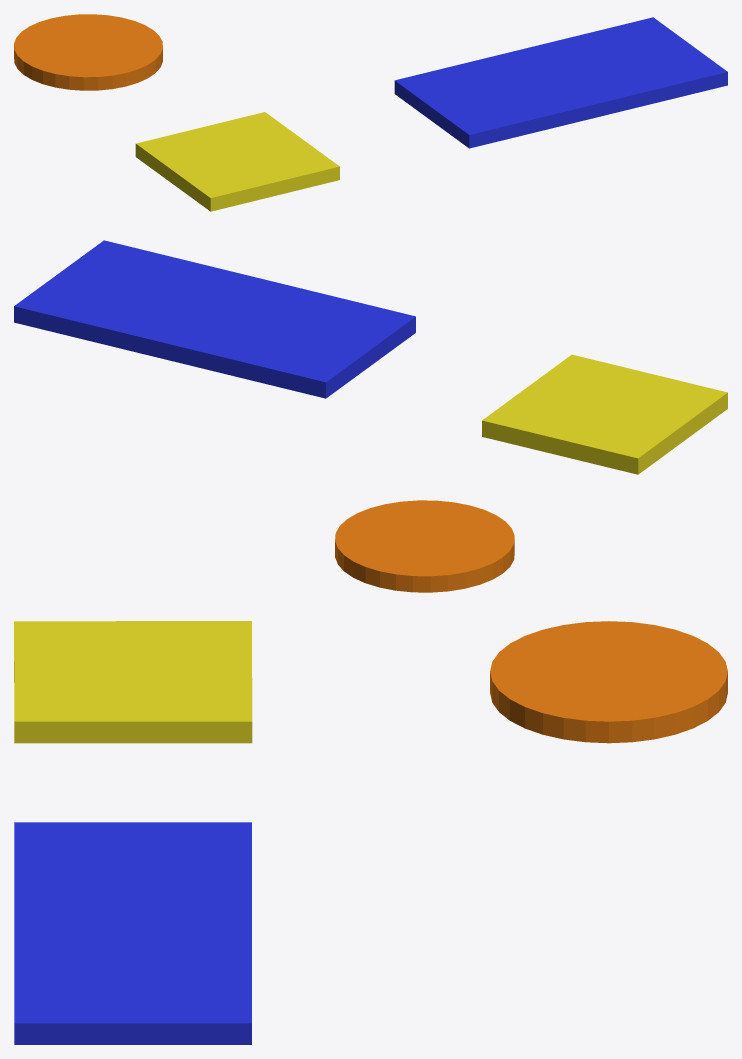
Rendered from all.gltf.
The picture shows the model from 3 angles, top to bottom: view 1: azimuth 30°, elevation 25°; view 2: azimuth 150°, elevation 25°; view 3: azimuth 270°, elevation 25°; orthographic projection. The views are drawn at different scales.
Parts seen in each view (by area): view 1: Deskmat, Mousepad, Cylinder; view 2: Deskmat, Mousepad, Cylinder; view 3: Deskmat, Mousepad, Cylinder.
Part boxes in pixels (<box>): Deskmat: <box>394,17,727,148</box>; Mousepad: <box>135,112,339,211</box>; Cylinder: <box>14,14,162,90</box>; Deskmat: <box>14,240,415,398</box>; Mousepad: <box>482,354,727,474</box>; Cylinder: <box>335,500,514,592</box>; Deskmat: <box>14,822,251,1044</box>; Mousepad: <box>14,621,252,743</box>; Cylinder: <box>490,621,727,743</box>.
Size of the model in its own units: 8 by 0.2 by 6.
